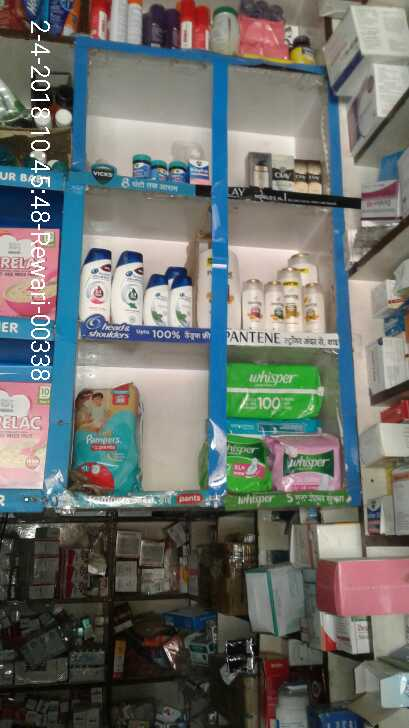vicks: (132, 151, 210, 187)
